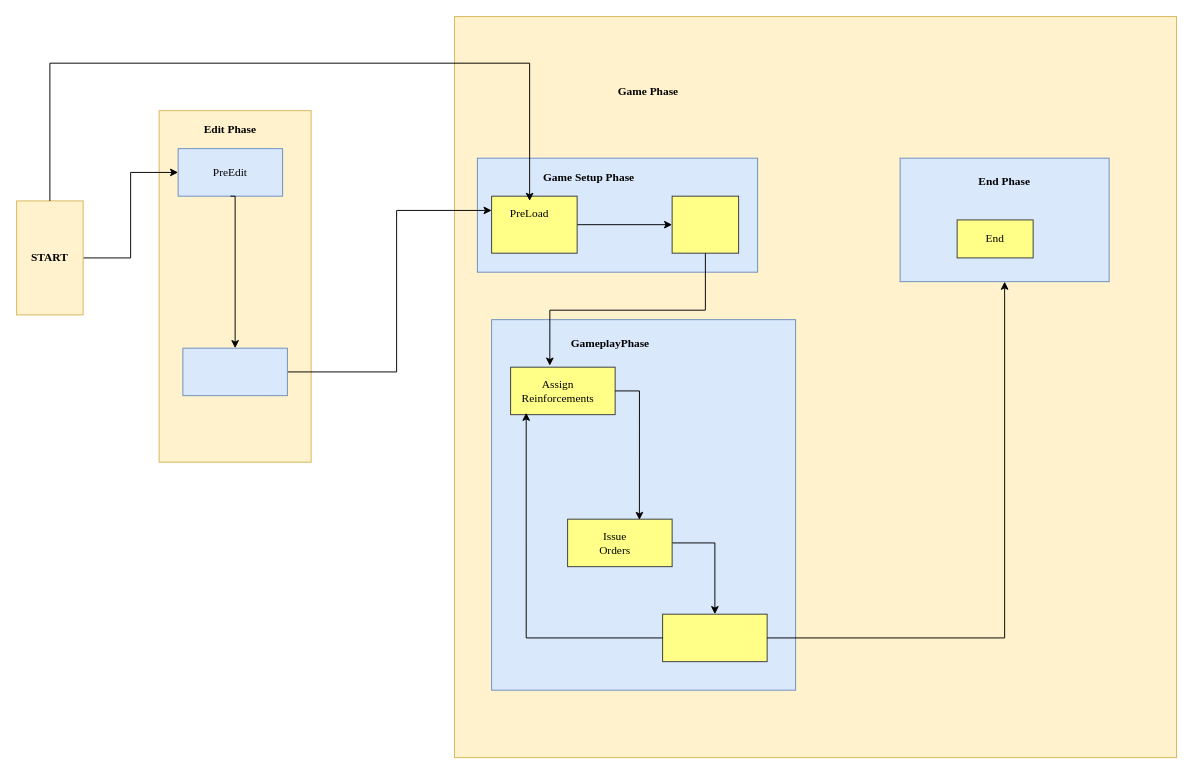
Image size: 1193x774. Some labels were removed from this diagram. The centre of each missing label's shape, as x and y in pixels:
Execute Orders: point 714,637
PostEdit: point 234,371
PostLoad: point 705,224
